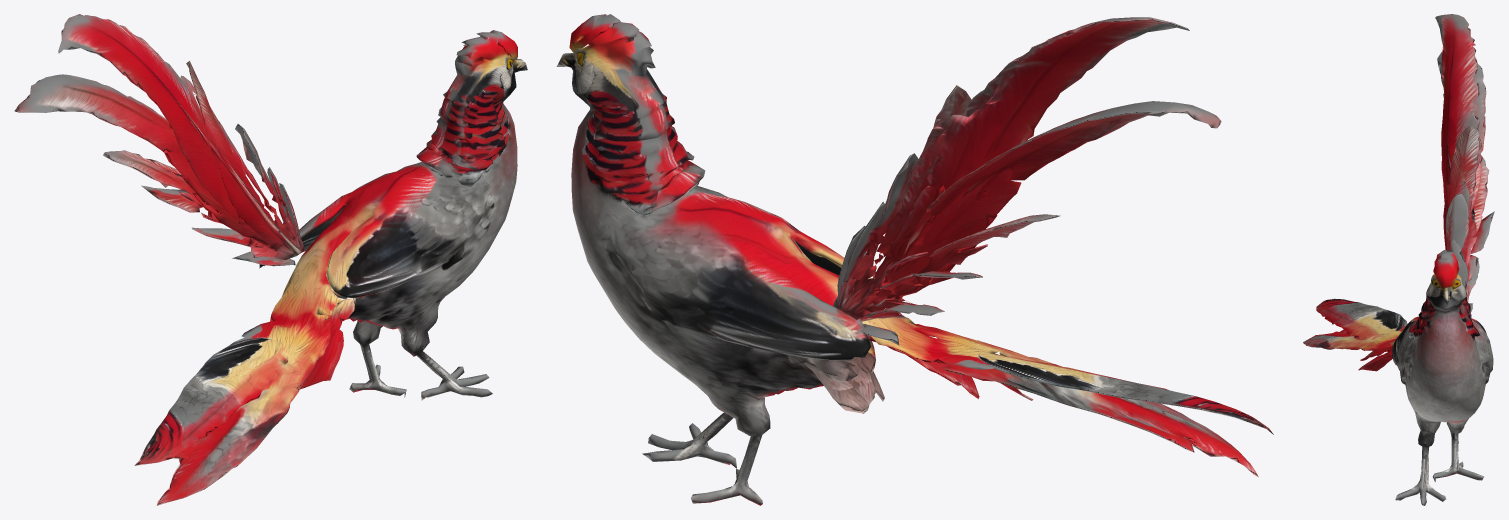
File: pheasant_C_h25.glb
The picture shows the model from 3 angles, left to right: view 1: azimuth 30°, elevation 25°; view 2: azimuth 150°, elevation 25°; view 3: azimuth 270°, elevation 25°; orthographic projection. The views are drawn at different scales.
Parts seen in each view (by area): view 1: tripo_node_c937cbf6-6c79-48e2-b6d4-b0eeda51f3eb; view 2: tripo_node_c937cbf6-6c79-48e2-b6d4-b0eeda51f3eb; view 3: tripo_node_c937cbf6-6c79-48e2-b6d4-b0eeda51f3eb.
Boxes of the visible parts, bbox=[...] form: tripo_node_c937cbf6-6c79-48e2-b6d4-b0eeda51f3eb: bbox=[14, 14, 527, 505]; tripo_node_c937cbf6-6c79-48e2-b6d4-b0eeda51f3eb: bbox=[556, 14, 1273, 505]; tripo_node_c937cbf6-6c79-48e2-b6d4-b0eeda51f3eb: bbox=[1303, 14, 1494, 505].
Bounding box in the file's own units: 1 × 0.8329 × 0.4201.
1 material, 1 textured.
